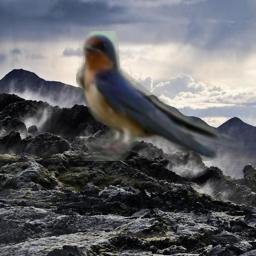Swallow: (76, 31, 244, 161)
